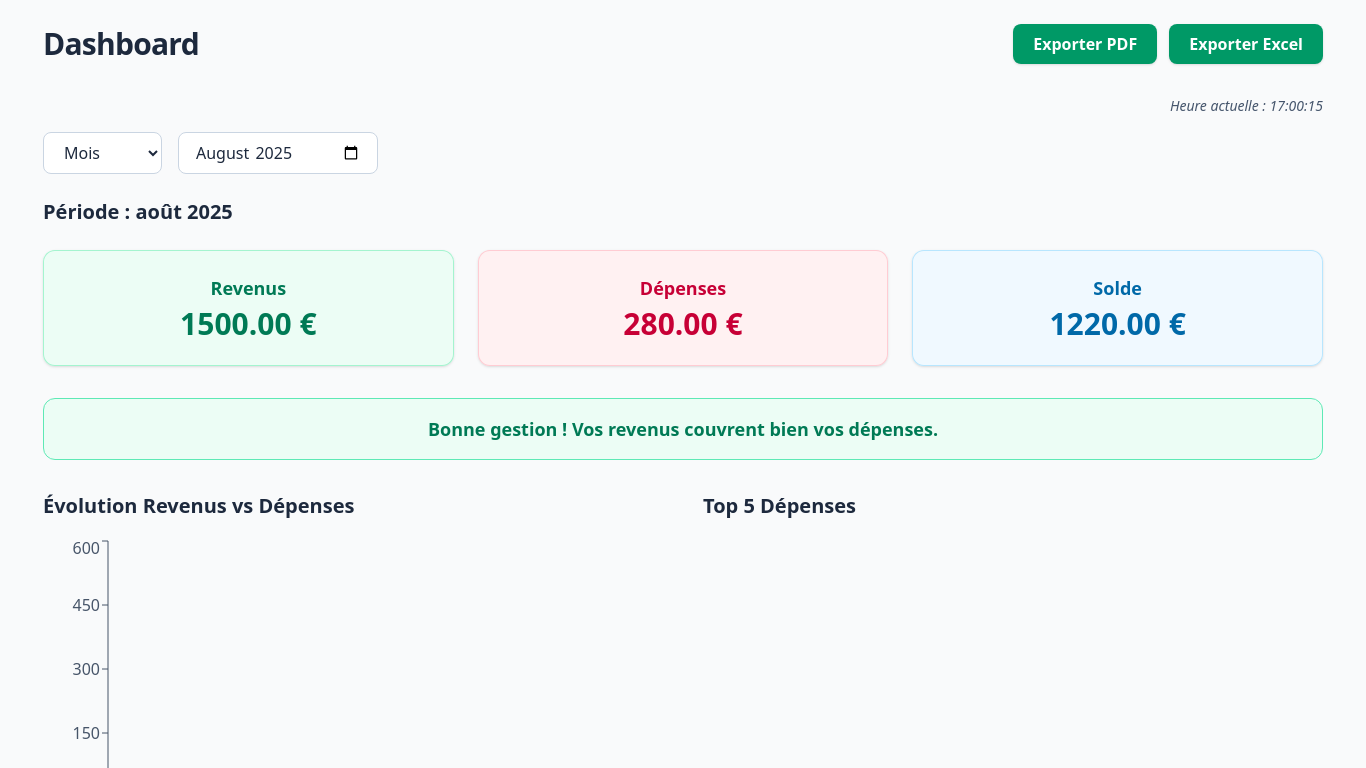
Dashboard › affiche le bon input selon le filtre (week/month/year)
Check: the heading "Dashboard" is shown, box [43,26,199,62]
Check: the field is shown, box [178,132,378,174]
Select "Année" in the dropdown: (102, 153) [43,132,162,174]
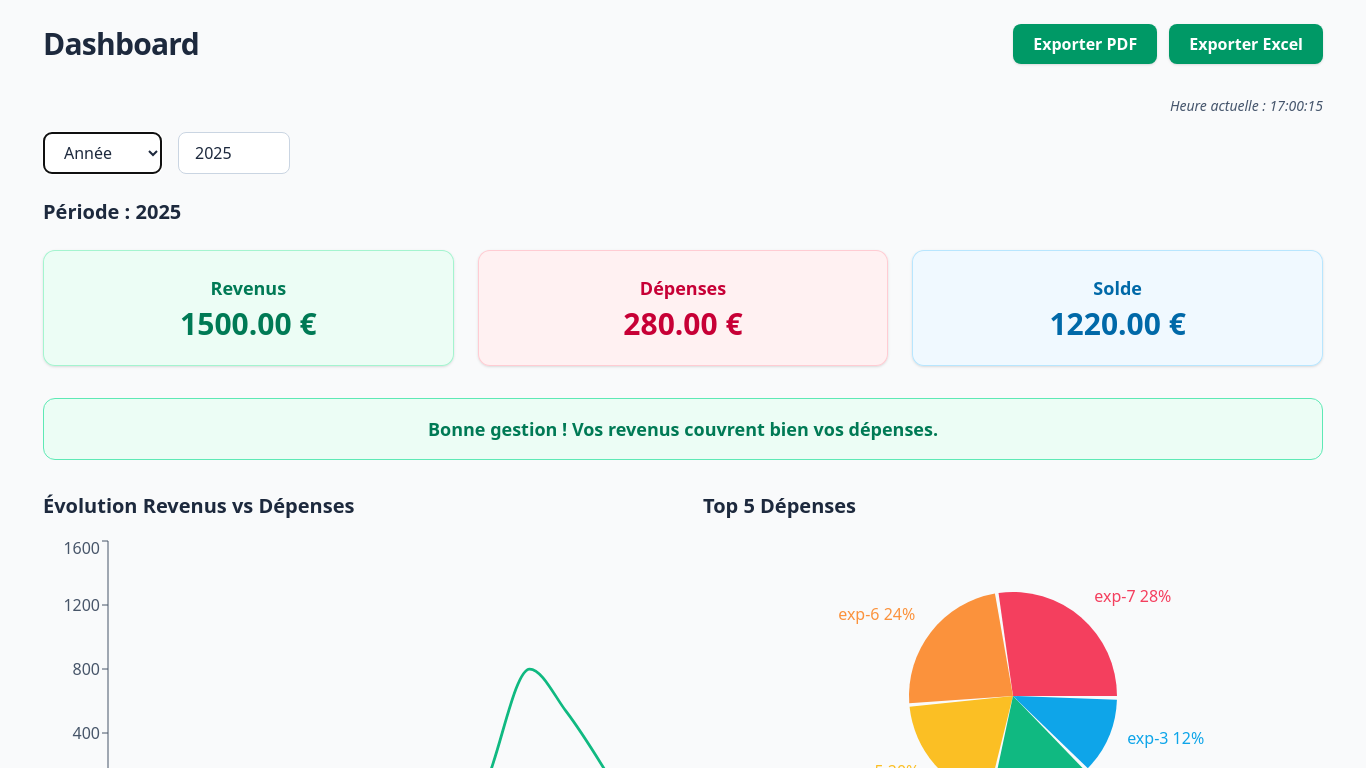
Check: the number field is shown, box [178,132,290,174]
Select "Semaine" in the dropdown: (102, 153) [43,132,162,174]
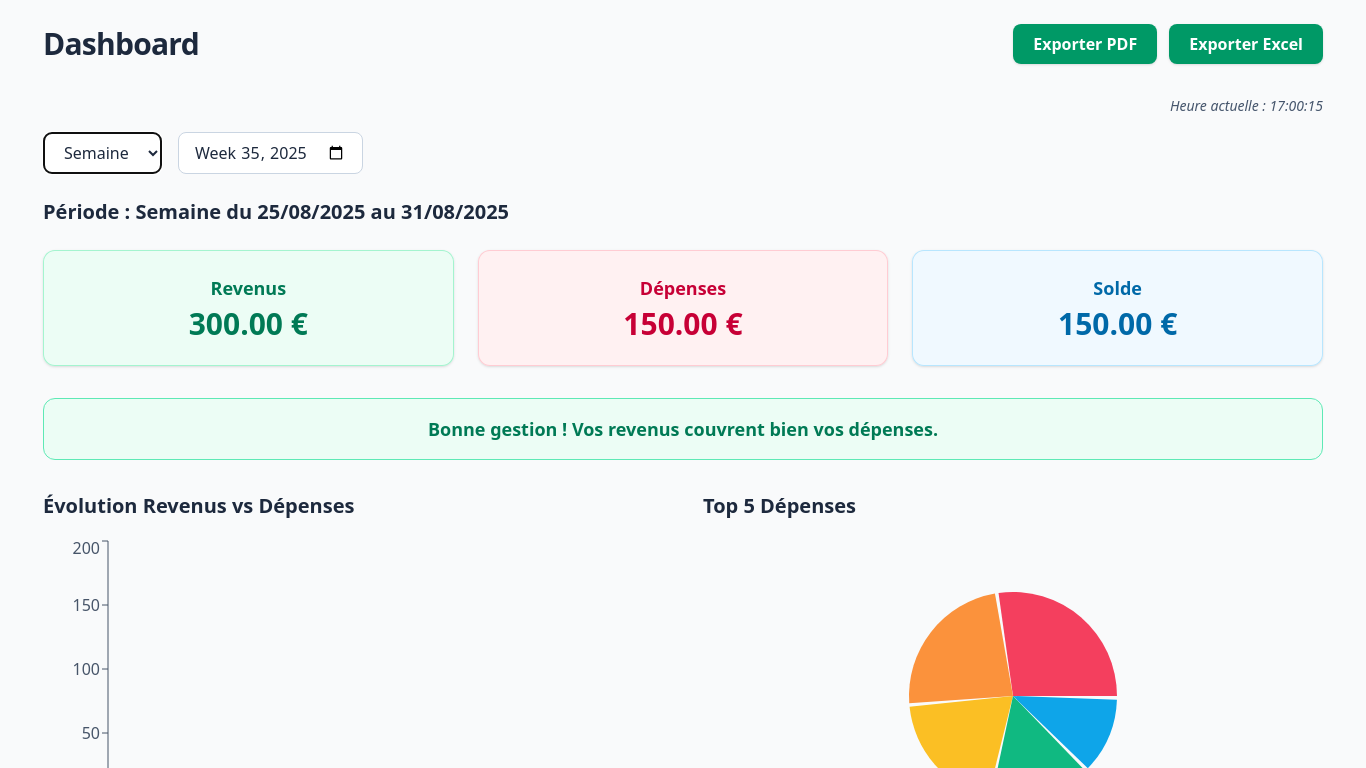
Check: the field is shown, box [178,132,363,174]
Select "Mois" in the dropdown: (102, 153) [43,132,162,174]
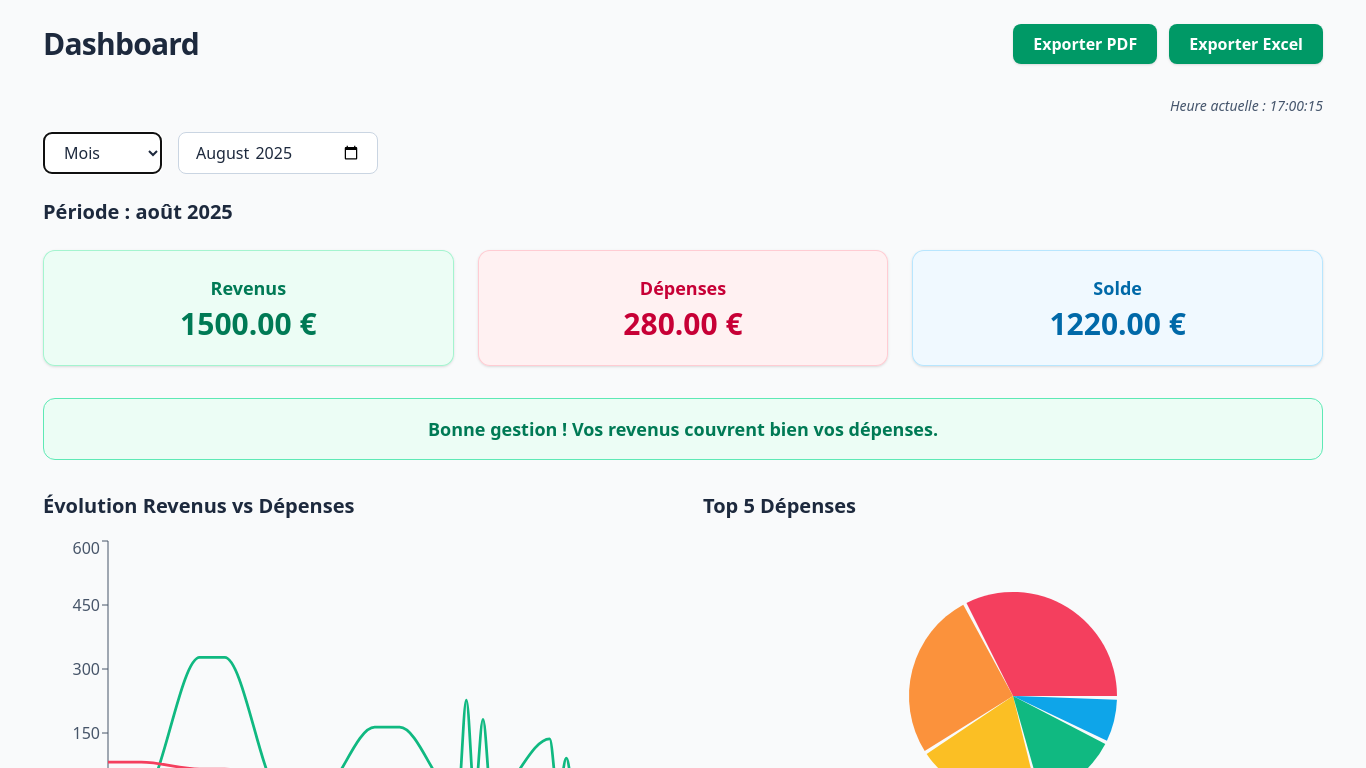
Check: the field is shown, box [178,132,378,174]
